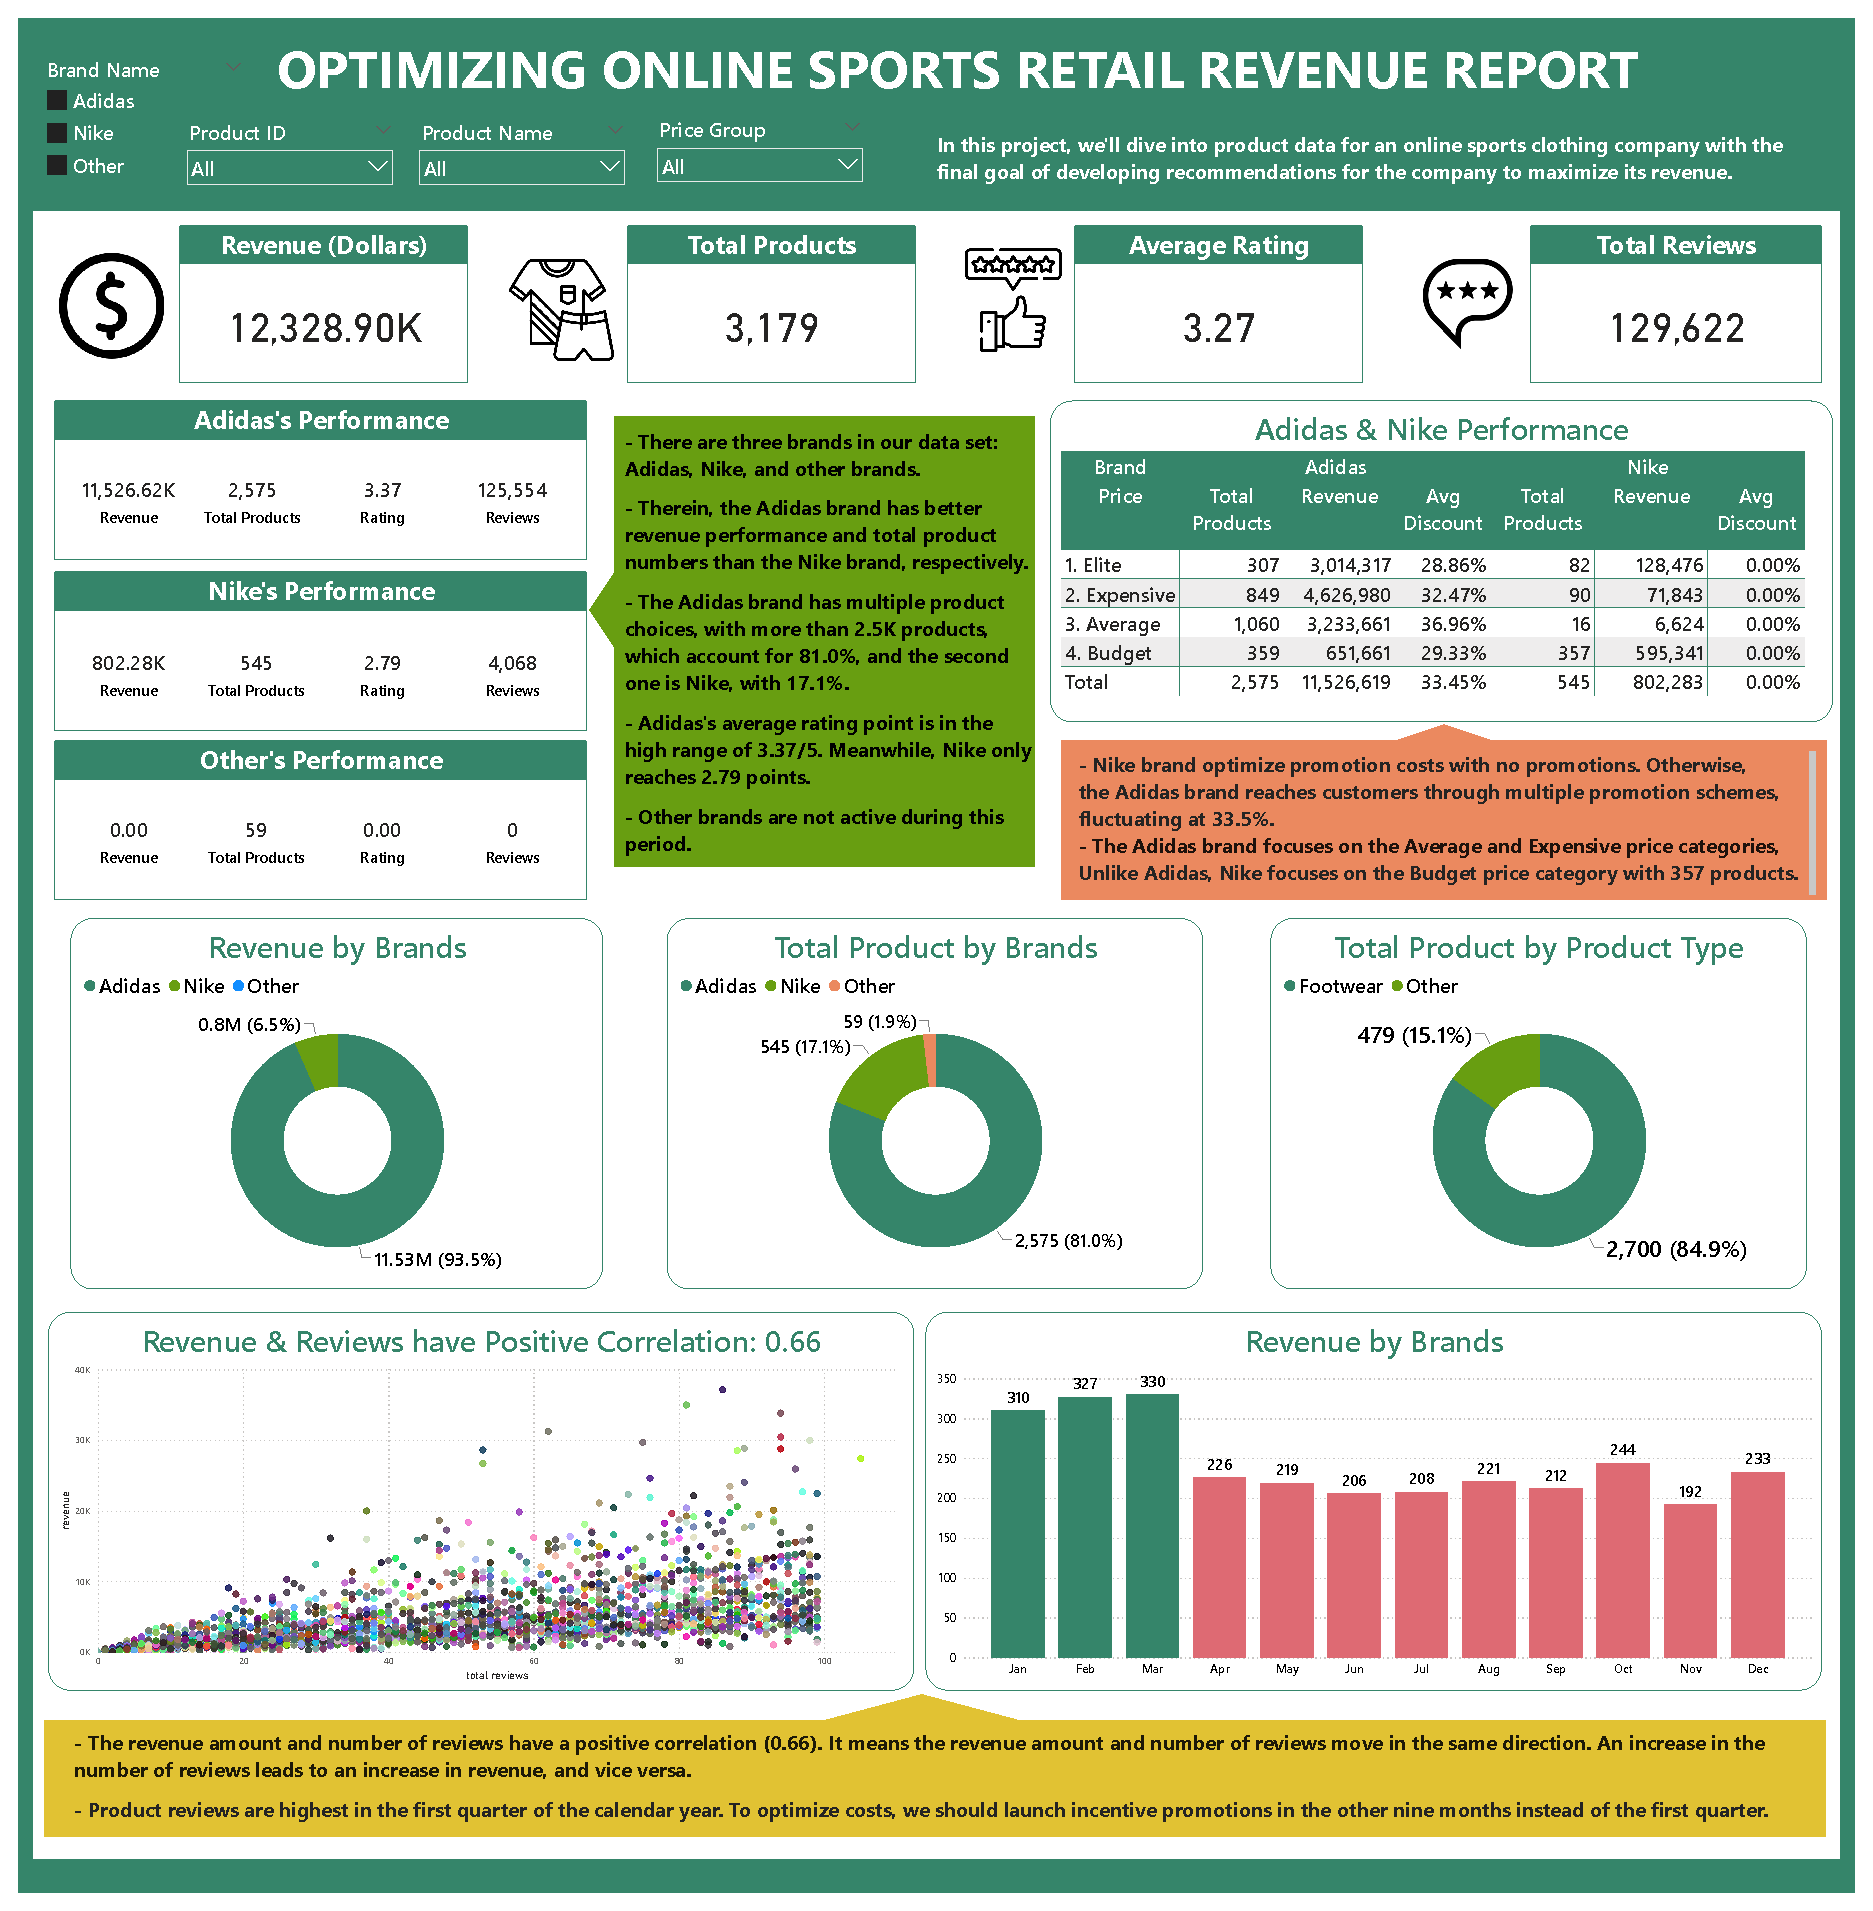

What the dashboard file says about the page in this screenshot:
{"tool":"powerbi","page":{"name":"Page 1","canvas":[2450,1800],"ordinal":0},"visuals":[{"type":"shape","box":[0,0,2451.7,256.6],"z":0},{"type":"shape","box":[0,51,21,1736.3],"z":1000},{"type":"shape","box":[2429,51,21,1736.3],"z":2000},{"type":"card","title":"Revenue (Dollars)","fields":{"Values":["Measure.revenue"]},"box":[215.2,275.6,385.1,211.4],"z":3000},{"type":"card","title":"Total Products","fields":{"Values":["Measure.total products"]},"box":[811.6,275.6,385.1,211.4],"z":4000},{"type":"card","title":"Average Rating","fields":{"Values":["Measure.average rating"]},"box":[1408.1,275.6,385.1,211.4],"z":5000},{"type":"card","title":"Total Reviews","fields":{"Values":["Measure.total reviews"]},"box":[2015.9,275.6,388.8,211.4],"z":6000},{"type":"image","box":[49.1,298.2,151,169.9],"z":7000},{"type":"image","box":[649.3,283.1,151,211.4],"z":8000},{"type":"image","box":[1253.3,256.7,147.2,237.8],"z":9000},{"type":"image","box":[1861.1,279.4,143.5,203.9],"z":10000},{"type":"card","title":"Adidas''s Performance","fields":{"Values":["Measure.blank"]},"box":[51,527.8,761.7,212.9],"z":11000},{"type":"donutChart","title":"Revenue by Brands","fields":{"Y":["Measure.revenue"],"Category":["brands.brand"]},"box":[49.1,773.9,622.9,498.3],"z":12000},{"type":"donutChart","title":"Total Product by Product Type","fields":{"Y":["Measure.total products"],"Category":["info.product_type"]},"box":[695.7,776.7,620.7,497.8],"z":13000},{"type":"scatterChart","fields":{"X":["Measure.total reviews"],"Y":["Measure.revenue"],"Series":["brands.product_id"]},"box":[1349.4,773.7,1064.6,500.8],"z":14000},{"type":"pivotTable","title":"Adidas & Nike Performance","fields":{"Values":["Measure.total products","Measure.revenue","Measure.average discount"],"Columns":["brands.brand"],"Rows":["info.price_cat"]},"box":[49.1,1306.2,1060.8,430.4],"z":15000},{"type":"clusteredColumnChart","title":"Revenue by Brands","fields":{"Y":["Measure.total products"],"Category":["info.last_visit"]},"box":[1154.5,1307.5,1250.5,431.8],"z":16000},{"type":"shape","box":[0,1754.3,2453,45],"z":17000},{"type":"actionButton","title":"Title","box":[192.5,0,2121.6,128.4],"z":18000},{"type":"card","title":"Other''s Performance","fields":{"Values":["Measure.blank"]},"box":[1643.3,527.8,761.7,212.9],"z":19000},{"type":"card","title":"Nike''s Performance","fields":{"Values":["Measure.blank"]},"box":[851.7,524.8,761.7,212.9],"z":20000},{"type":"card","title":"Revenue (Dollars)","fields":{"Values":["Measure.revenue"]},"box":[51,590.8,212.9,137.9],"z":21000},{"type":"card","title":"Revenue (Dollars)","fields":{"Values":["Measure.total products"]},"box":[227.9,590.8,212.9,137.9],"z":22000},{"type":"card","title":"Revenue (Dollars)","fields":{"Values":["Measure.average rating"]},"box":[413.8,590.8,212.9,137.9],"z":23000},{"type":"card","title":"Revenue (Dollars)","fields":{"Values":["Measure.total reviews"]},"box":[599.8,590.8,212.9,137.9],"z":24000},{"type":"card","title":"Revenue (Dollars)","fields":{"Values":["Measure.revenue"]},"box":[851.7,590.8,212.9,137.9],"z":25000},{"type":"card","title":"Revenue (Dollars)","fields":{"Values":["Measure.total products"]},"box":[1034.6,590.8,212.9,137.9],"z":26000},{"type":"card","title":"Revenue (Dollars)","fields":{"Values":["Measure.average rating"]},"box":[1214.5,590.8,212.9,137.9],"z":27000},{"type":"card","title":"Revenue (Dollars)","fields":{"Values":["Measure.total reviews"]},"box":[1400.4,590.8,212.9,137.9],"z":28000},{"type":"card","title":"Revenue (Dollars)","fields":{"Values":["Measure.revenue"]},"box":[1643.1,591.3,212.9,137.9],"z":29000},{"type":"card","title":"Revenue (Dollars)","fields":{"Values":["Measure.total products"]},"box":[1826,591.3,212.9,137.9],"z":30000},{"type":"card","title":"Revenue (Dollars)","fields":{"Values":["Measure.average rating"]},"box":[2005.9,591.3,212.9,137.9],"z":31000},{"type":"card","title":"Revenue (Dollars)","fields":{"Values":["Measure.total reviews"]},"box":[2191.9,591.3,212.9,137.9],"z":32000},{"type":"slicer","fields":{"Values":["brands.brand"]},"box":[22.7,11.3,294.5,245.4],"z":33000},{"type":"slicer","fields":{"Values":["info.product_id"]},"box":[215.2,128.4,294.5,113.3],"z":34000},{"type":"slicer","fields":{"Values":["info.product_name"]},"box":[524.7,128.4,294.5,113.3],"z":35000},{"type":"slicer","fields":{"Values":["info.price_cat"]},"box":[841.8,124.6,294.5,113.3],"z":36000}]}

Visuals, with their boxes in screenshot pixels (x1, y1, x2, y2):
shape: x1=10, y1=10, x2=1857, y2=203
shape: x1=10, y1=48, x2=26, y2=1356
shape: x1=1839, y1=48, x2=1855, y2=1356
"Revenue (Dollars)" card: x1=172, y1=218, x2=462, y2=377
"Total Products" card: x1=621, y1=218, x2=911, y2=377
"Average Rating" card: x1=1071, y1=218, x2=1361, y2=377
"Total Reviews" card: x1=1528, y1=218, x2=1821, y2=377
image: x1=47, y1=235, x2=161, y2=363
image: x1=499, y1=223, x2=613, y2=382
image: x1=954, y1=203, x2=1065, y2=382
image: x1=1412, y1=220, x2=1520, y2=374
"Adidas''s Performance" card: x1=48, y1=407, x2=622, y2=568
"Revenue by Brands" donutChart: x1=47, y1=593, x2=516, y2=968
"Total Product by Product Type" donutChart: x1=534, y1=595, x2=1001, y2=970
scatterChart - Measure.total reviews x Measure.revenue: x1=1026, y1=593, x2=1828, y2=970
"Adidas & Nike Performance" pivotTable: x1=47, y1=994, x2=846, y2=1318
"Revenue by Brands" clusteredColumnChart: x1=880, y1=995, x2=1821, y2=1320
shape: x1=10, y1=1331, x2=1858, y2=1365
"Title" actionButton: x1=155, y1=10, x2=1753, y2=107
"Other''s Performance" card: x1=1248, y1=407, x2=1821, y2=568
"Nike''s Performance" card: x1=651, y1=405, x2=1225, y2=566
"Revenue (Dollars)" card: x1=48, y1=455, x2=209, y2=559
"Revenue (Dollars)" card: x1=182, y1=455, x2=342, y2=559
"Revenue (Dollars)" card: x1=322, y1=455, x2=482, y2=559
"Revenue (Dollars)" card: x1=462, y1=455, x2=622, y2=559
"Revenue (Dollars)" card: x1=651, y1=455, x2=812, y2=559
"Revenue (Dollars)" card: x1=789, y1=455, x2=950, y2=559
"Revenue (Dollars)" card: x1=925, y1=455, x2=1085, y2=559
"Revenue (Dollars)" card: x1=1065, y1=455, x2=1225, y2=559
"Revenue (Dollars)" card: x1=1248, y1=455, x2=1408, y2=559
"Revenue (Dollars)" card: x1=1385, y1=455, x2=1546, y2=559
"Revenue (Dollars)" card: x1=1521, y1=455, x2=1681, y2=559
"Revenue (Dollars)" card: x1=1661, y1=455, x2=1821, y2=559
slicer - brands.brand: x1=27, y1=18, x2=249, y2=203
slicer - info.product_id: x1=172, y1=107, x2=394, y2=192
slicer - info.product_name: x1=405, y1=107, x2=627, y2=192
slicer - info.price_cat: x1=644, y1=104, x2=866, y2=189
